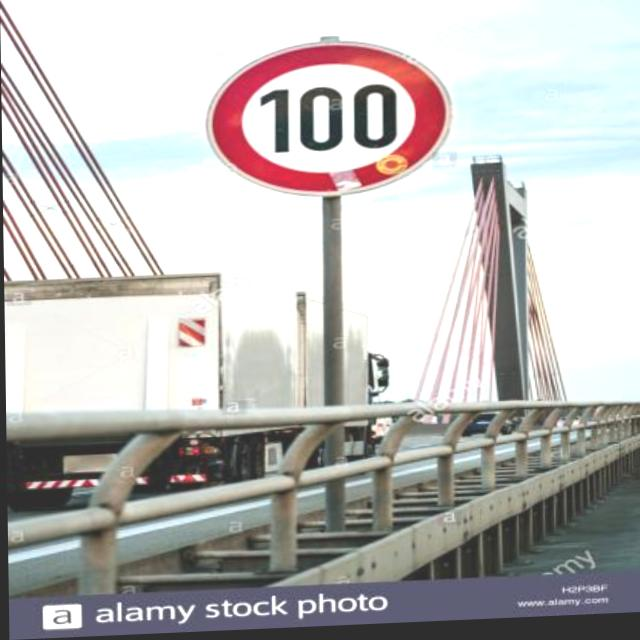limit100: (193, 29, 461, 210)
